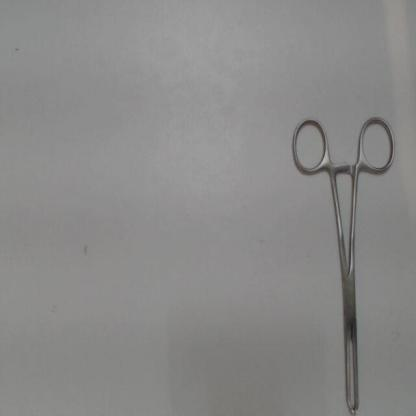Allis Tissue Forceps: (288, 111, 402, 414)
